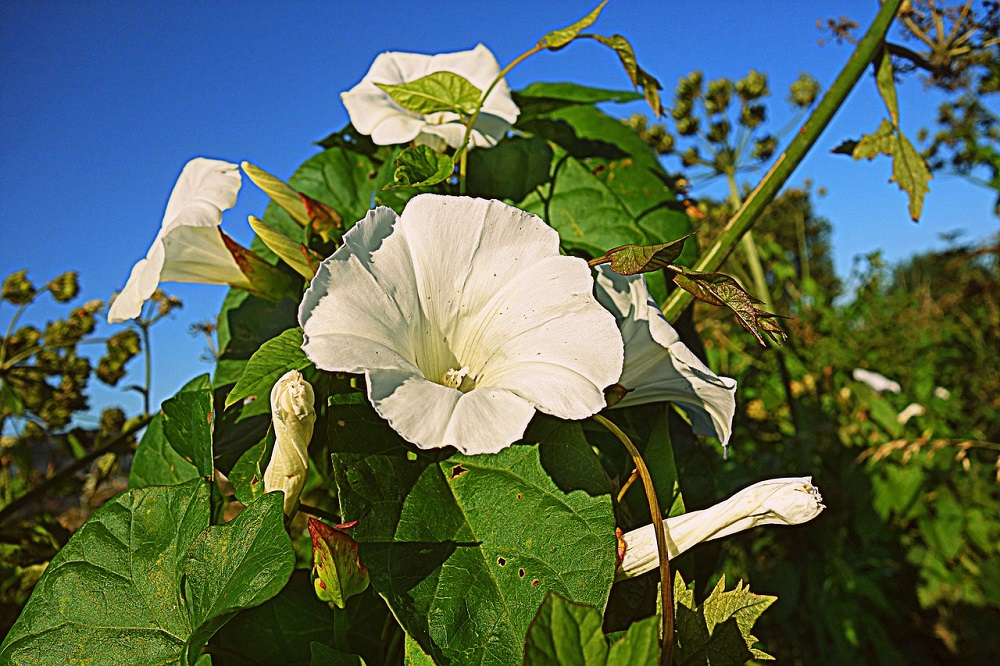haagwinde: (74, 2, 845, 666)
